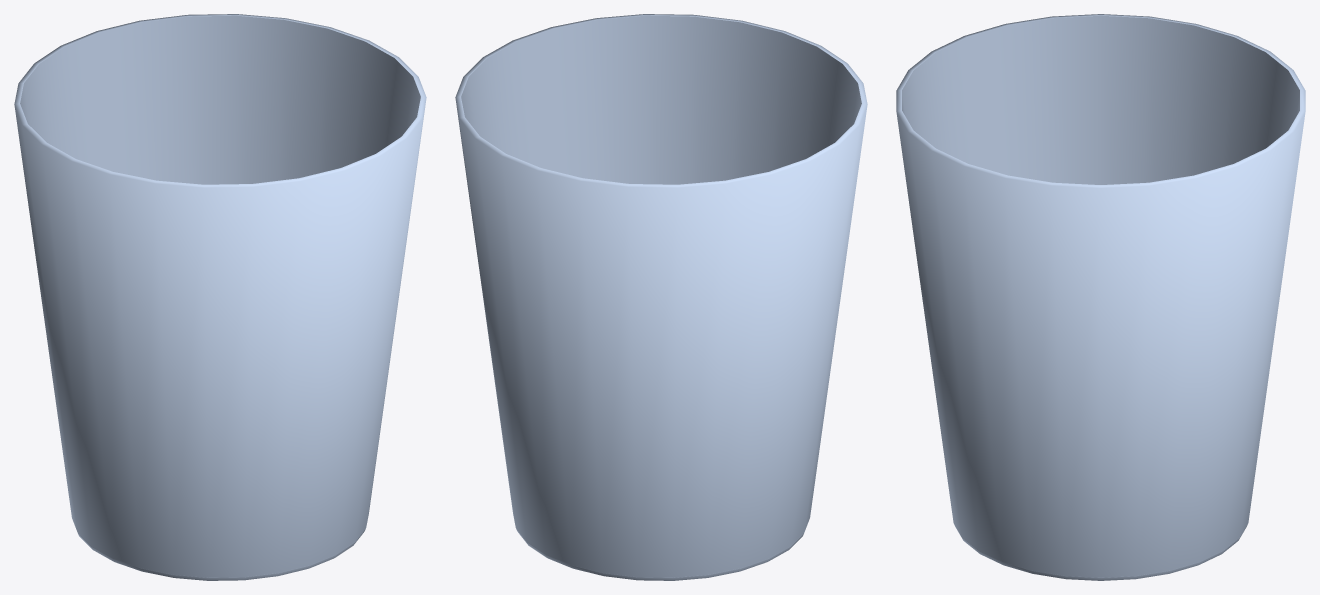
Rendered from glass_basic2.FBX.
3 views of the same model, side by side, from view 1: azimuth 30°, elevation 25°; view 2: azimuth 150°, elevation 25°; view 3: azimuth 270°, elevation 25° (orthographic).
Parts seen in each view (by area): view 1: Glass; view 2: Glass; view 3: Glass.
Boxes of the visible parts, x1,y1,x2,y2 form: Glass: (14,14,426,580); Glass: (455,14,867,580); Glass: (896,14,1305,580).
Bounding box in the file's own units: 7.21 × 8.11 × 7.16.
